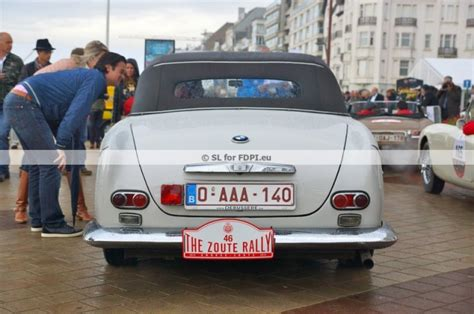licenceplate: (185, 182, 295, 206)
